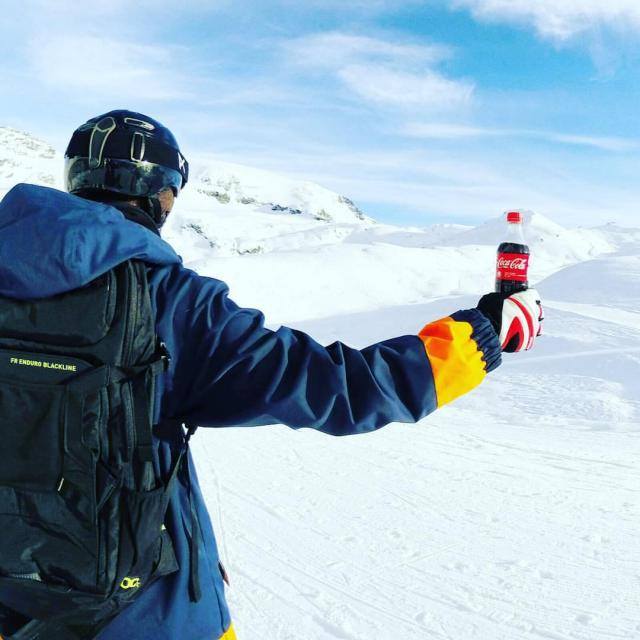coca-cola: (494, 210, 532, 297)
